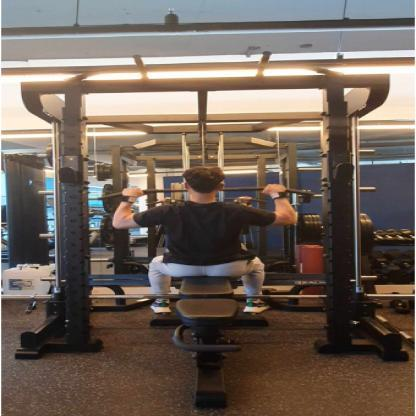Lat Pull Down: (23, 50, 416, 416)
